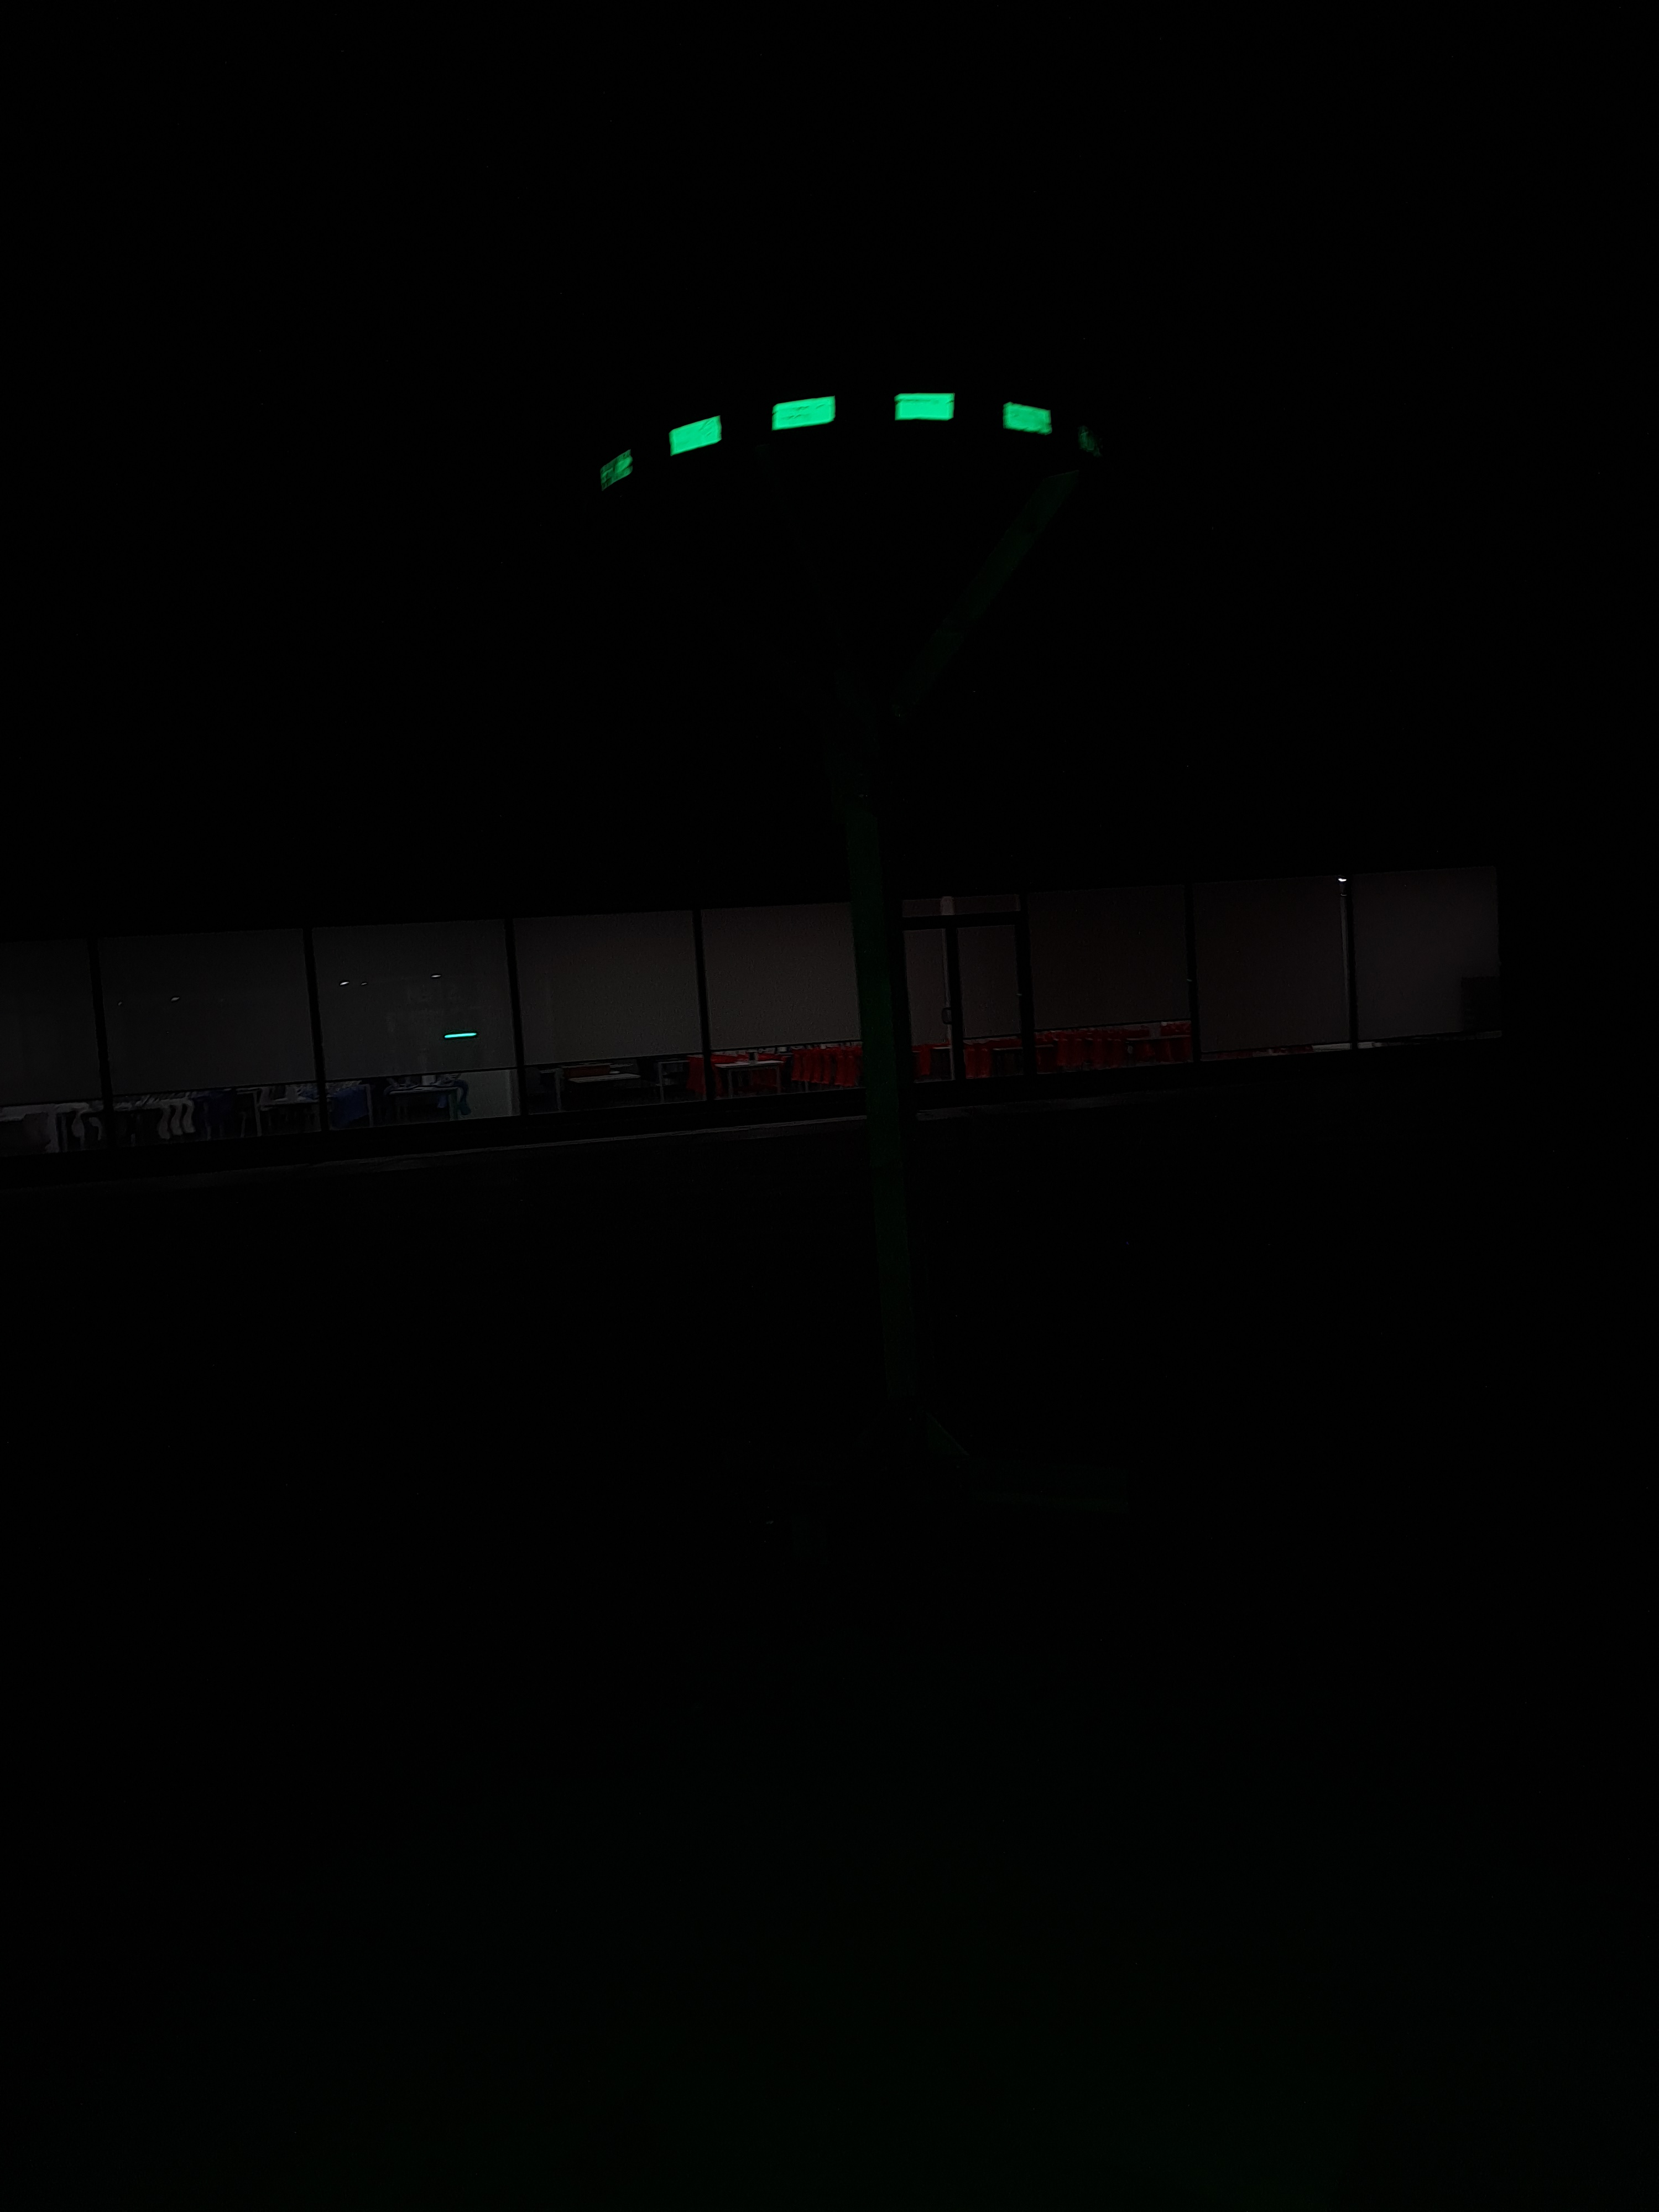hoop: (592, 394, 1066, 495)
